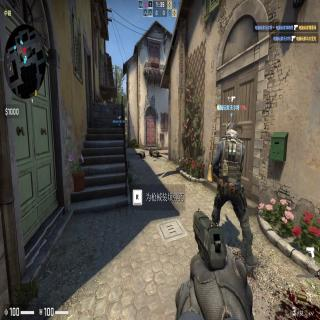CT-Head: (225, 121, 238, 141)
